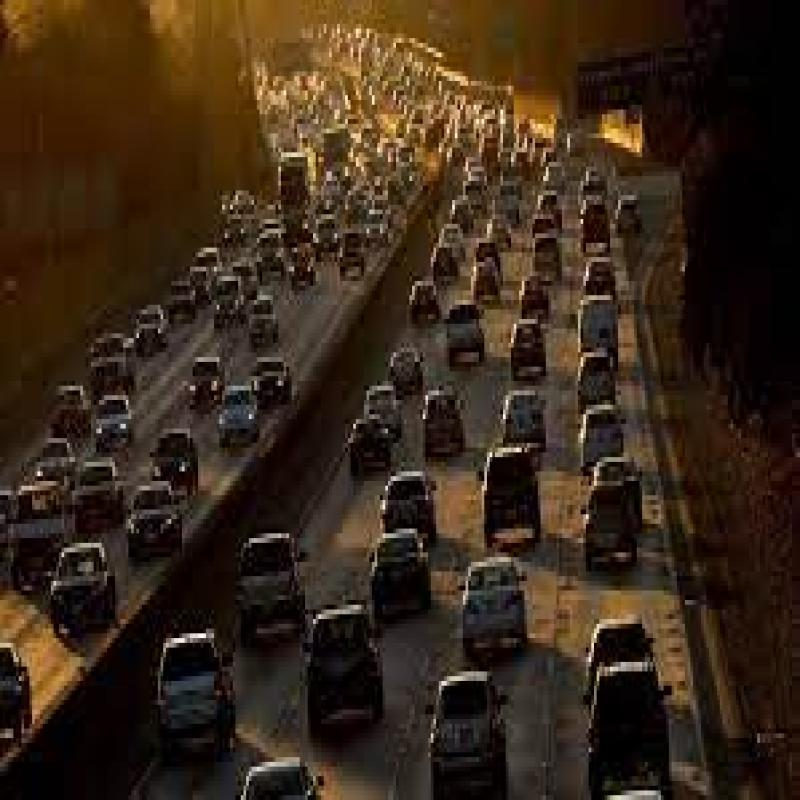car: (348, 522, 479, 666), (577, 683, 680, 787), (427, 686, 513, 800), (148, 632, 236, 734), (229, 505, 298, 635), (304, 592, 380, 698), (52, 563, 137, 650), (0, 491, 75, 577), (594, 614, 662, 701), (587, 484, 651, 574), (74, 460, 134, 548), (368, 459, 427, 540), (488, 438, 534, 533), (424, 376, 476, 454), (576, 395, 628, 471), (341, 408, 399, 469), (208, 272, 261, 331), (93, 395, 142, 458), (99, 322, 140, 396), (424, 293, 486, 341), (559, 288, 606, 351), (34, 434, 80, 498), (134, 497, 187, 552), (216, 392, 257, 461), (154, 429, 201, 488), (572, 352, 612, 418), (53, 374, 92, 439), (499, 388, 544, 442), (511, 322, 544, 390), (367, 358, 401, 416), (188, 350, 222, 406), (516, 247, 544, 313), (139, 291, 169, 350), (249, 364, 283, 415), (251, 293, 280, 351), (174, 272, 196, 326)
